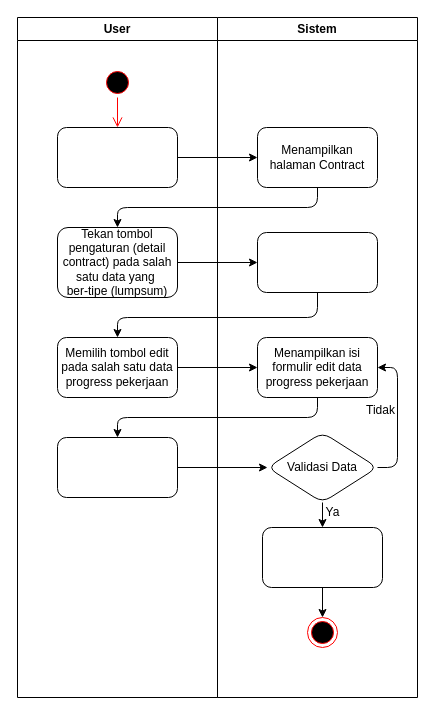
The diagram is 435 pixels wide and 715 high, and some of its shapes have lost their labels. Each missing label, with the box of its shape:
Membuka halaman Contract: (56, 126, 178, 188)
Menampilkan detail contract beserta progress pekerjaan-nya: (256, 232, 378, 292)
Mengubah isi formulir tambah data progress pekerjaan: (56, 436, 178, 498)
Menyimpan perubahan data progress pekerjaan: (262, 526, 382, 588)
